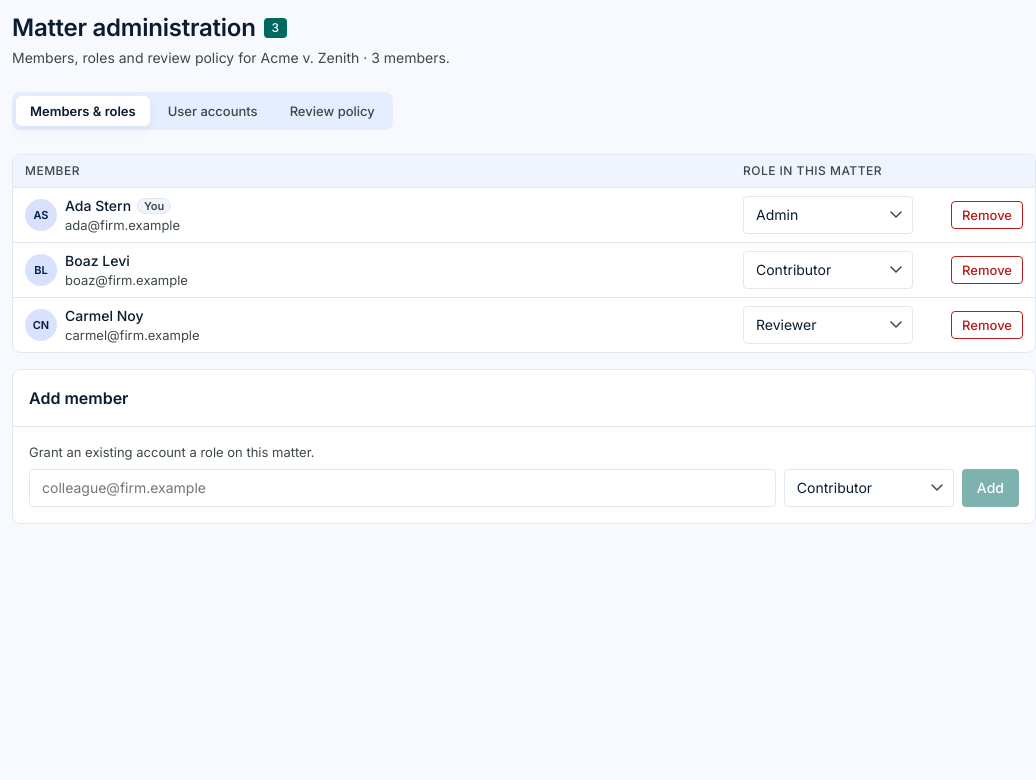
Test: AdminPage › explains a 404 when the email has no account
This screenshot has width=1036, height=780.
Expected: the text "Boaz Levi" is shown, 65,252 -> 130,269
Type "ghost@firm.example" into the field named "Email of the account to add" at (402, 488), box 29,469 -> 776,507
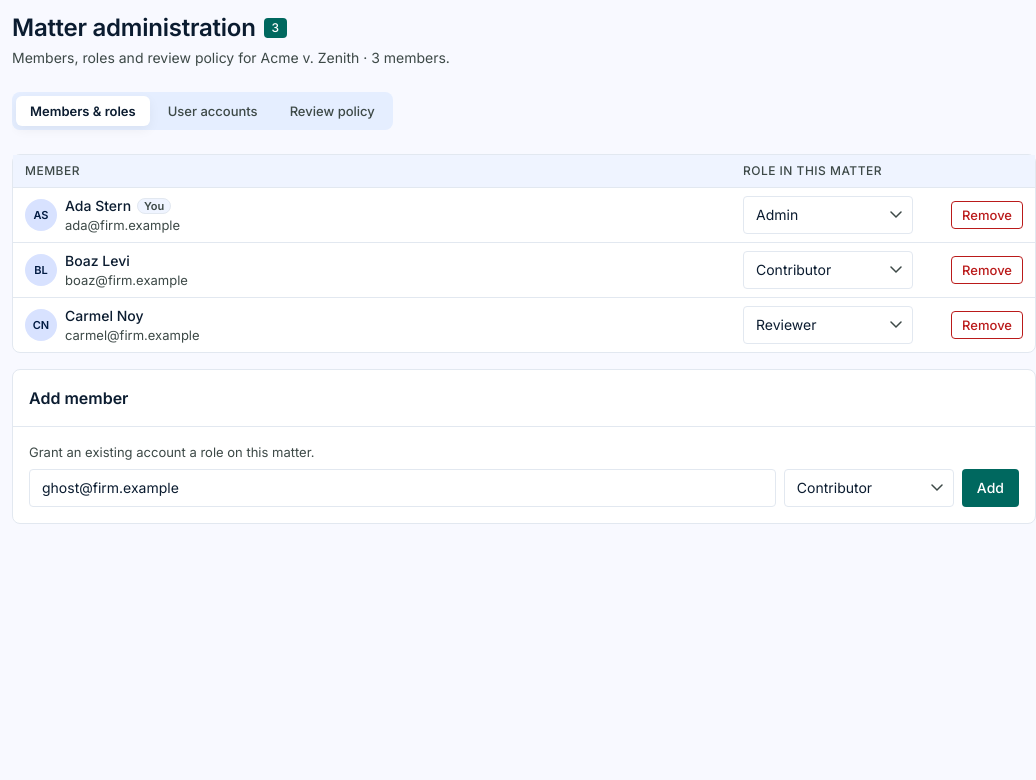
Click the button "Add" at (990, 488), box 962,469 -> 1019,507
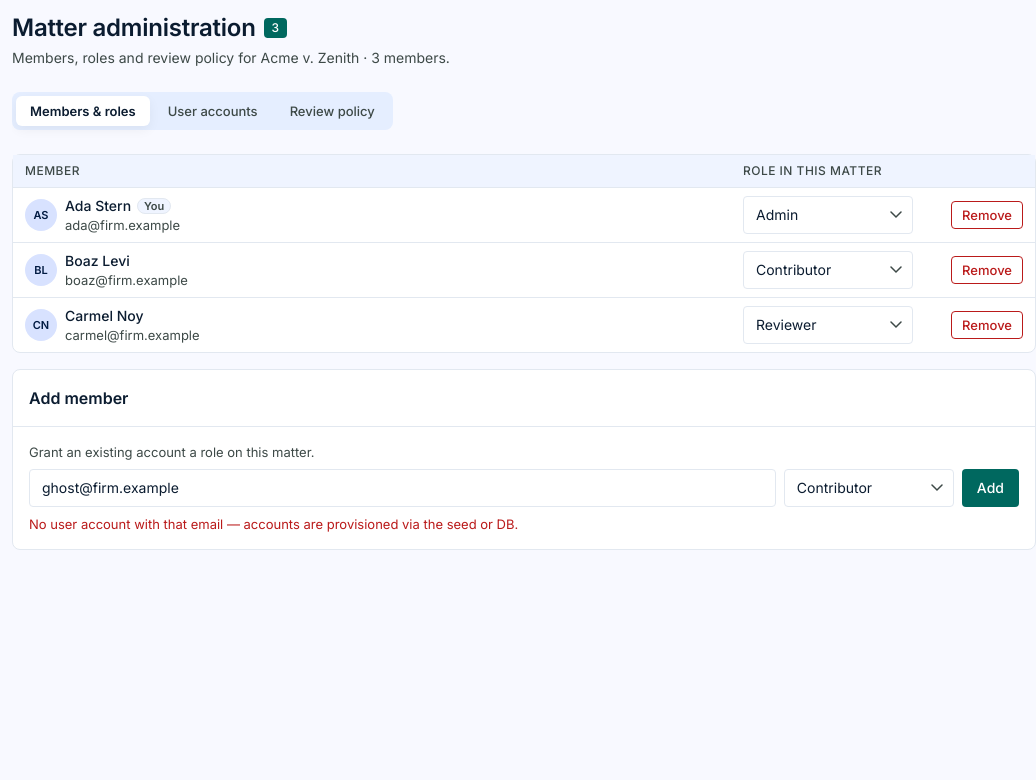
Now the text "No user account with that email — accounts are provisioned via the seed or DB." is shown, box 29,516 -> 518,532
